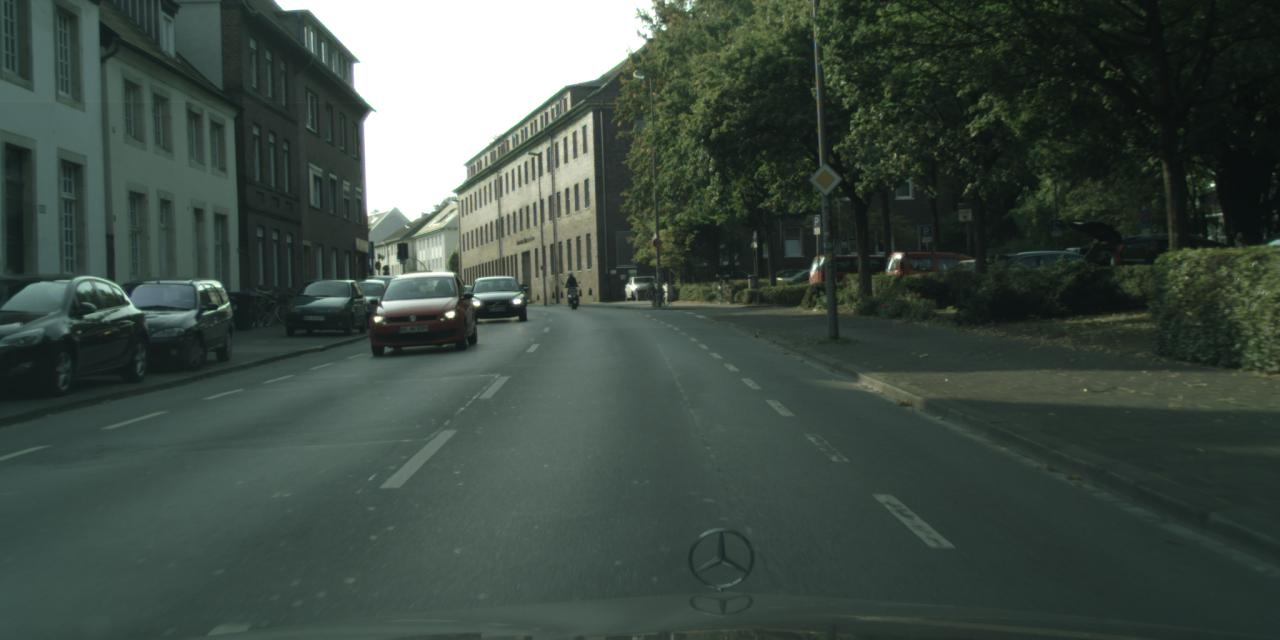ped: (564, 270, 578, 304)
